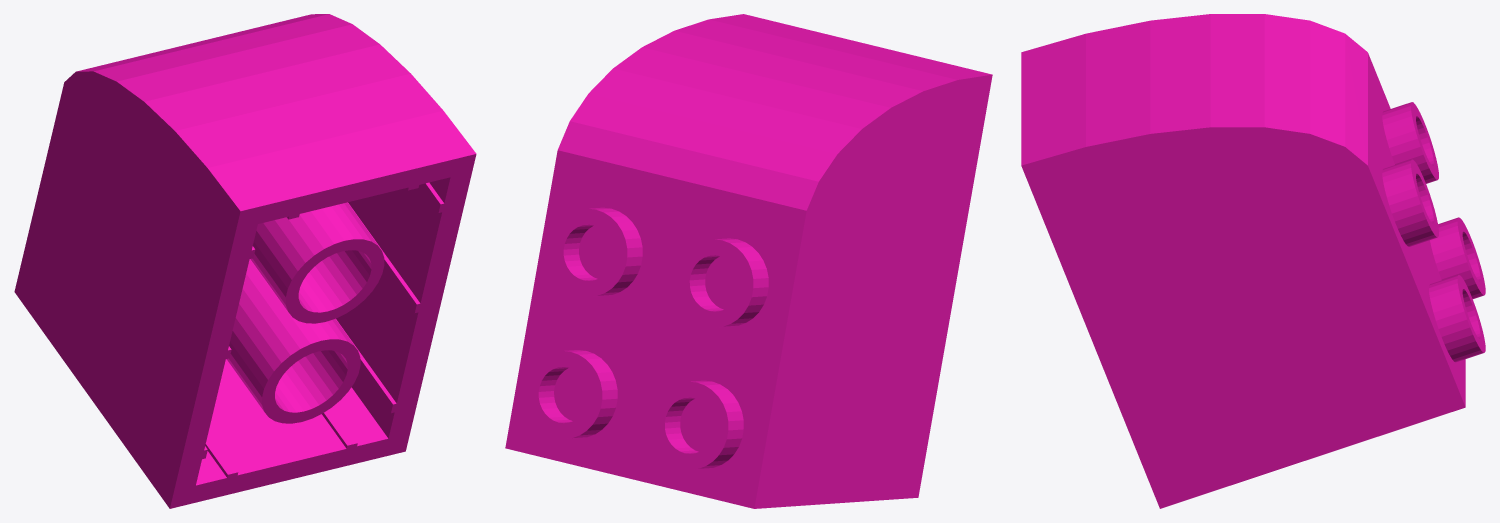
The model's file is duplo4_5.dae.
3 renders of one model, left to right at view 1: azimuth 30°, elevation 25°; view 2: azimuth 150°, elevation 25°; view 3: azimuth 270°, elevation 25°, orthographic. The views are drawn at different scales.
Parts seen in each view (by area): view 1: duplo4_019; view 2: duplo4_019; view 3: duplo4_019.
Part boxes in pixels (left/top/right/bottom): duplo4_019: left=14, top=14, right=476, bottom=508; duplo4_019: left=505, top=14, right=992, bottom=508; duplo4_019: left=1021, top=14, right=1485, bottom=508.
Bounding box in the file's own units: 0.0561 × 0.0972 × 0.0882.
